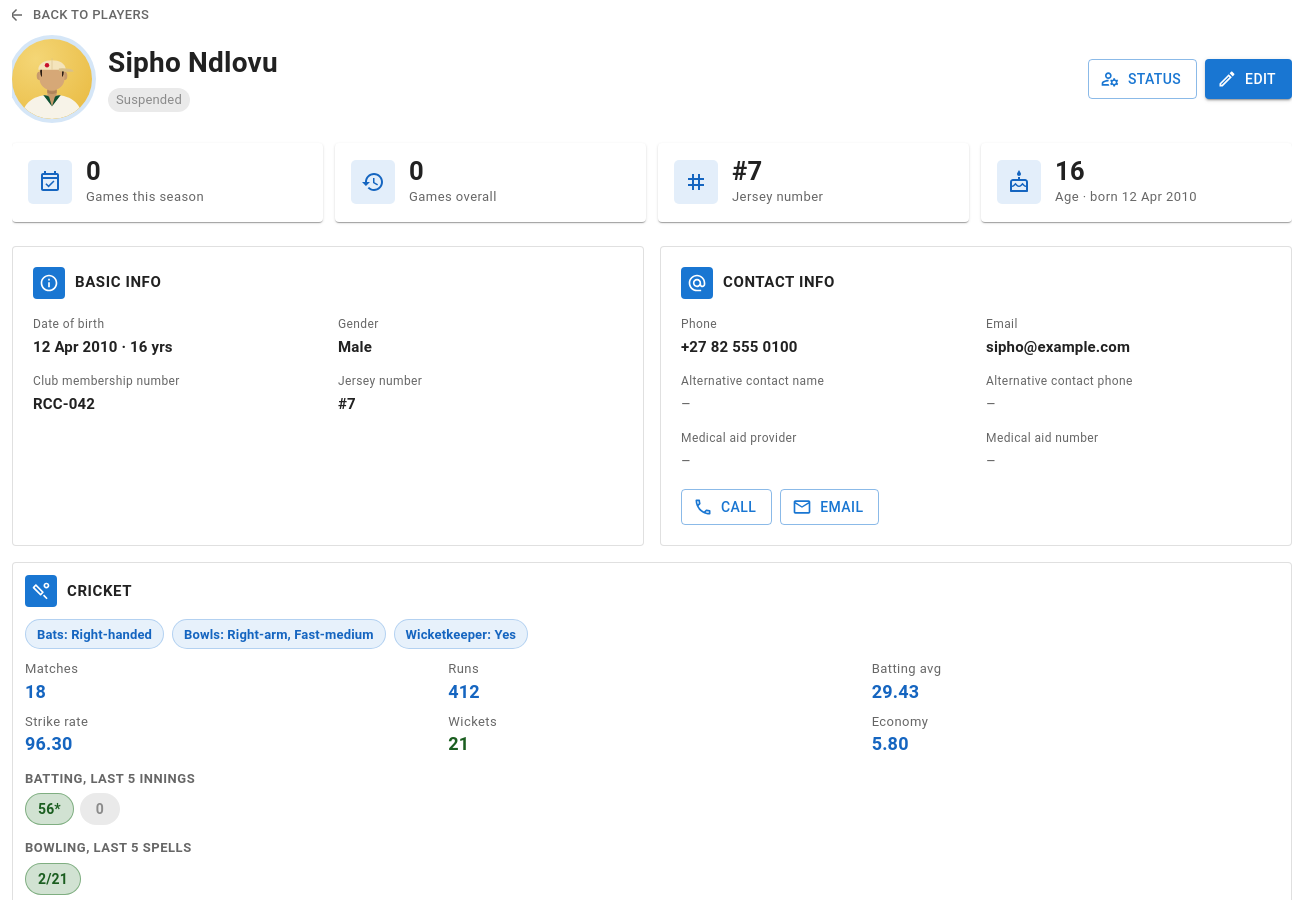
it: PlayerDetailPage › player status › offers Reactivate for a suspended player and shows no banner
Expected: the heading "Sipho Ndlovu" is shown, left=108, top=46, right=278, bottom=80
Click the button "Status": (1142, 79) left=1088, top=59, right=1197, bottom=99
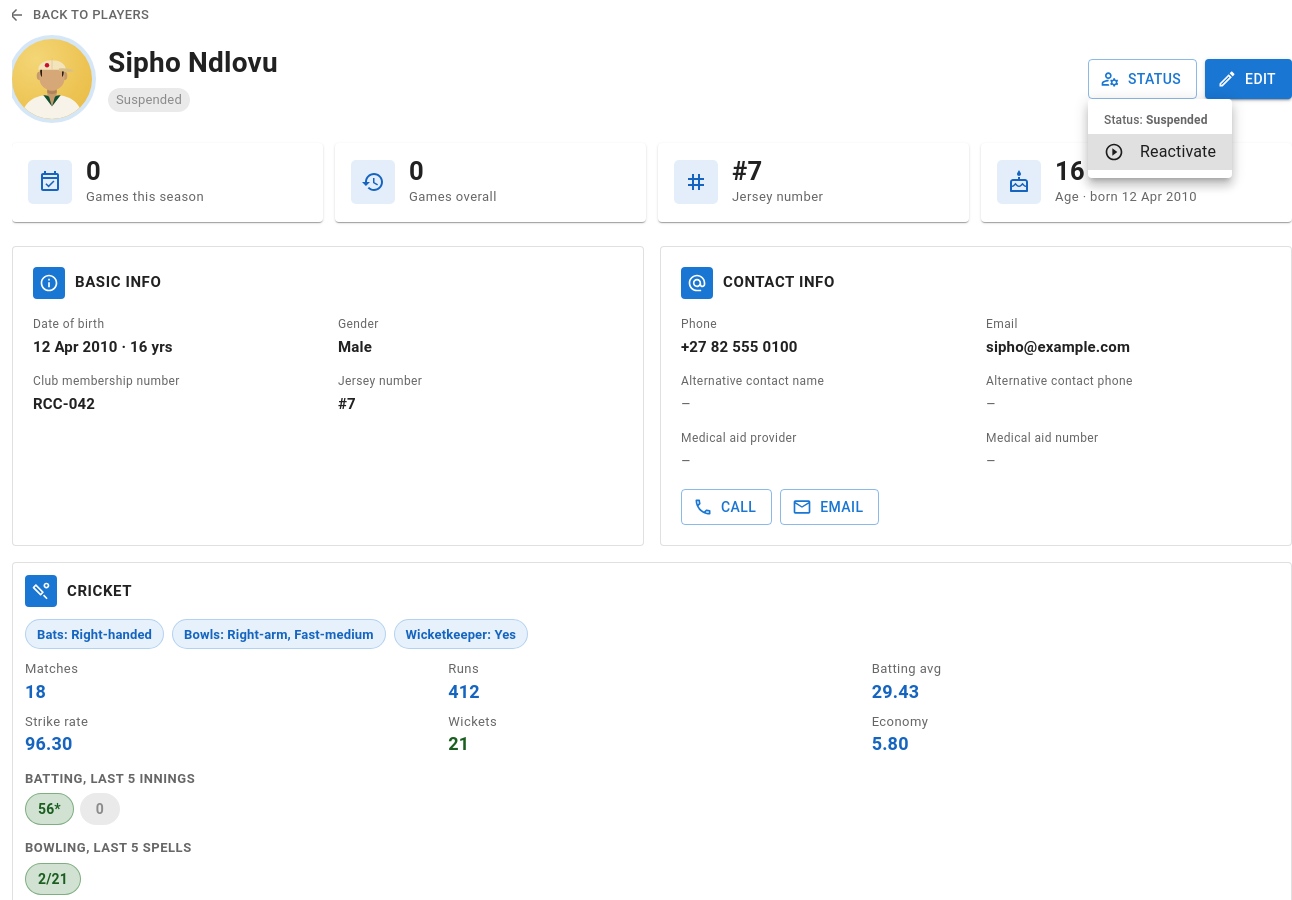
Expected: the menu items read "Reactivate", in this order, left=1088, top=134, right=1232, bottom=170
